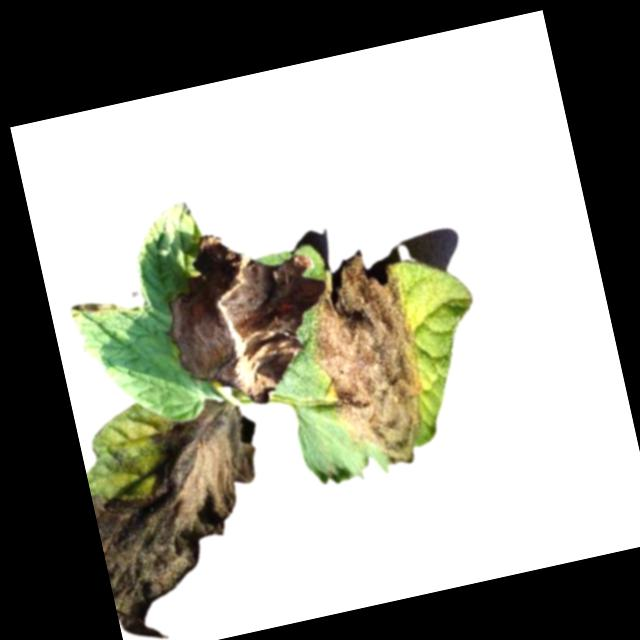Late_blight: (78, 394, 289, 640), (153, 218, 340, 420), (291, 243, 442, 480)
